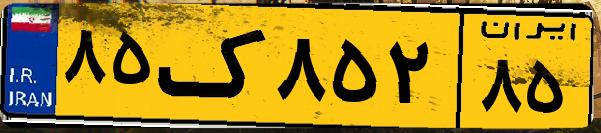2: (385, 28, 445, 110)
5: (330, 28, 385, 110), (525, 38, 570, 115), (110, 28, 158, 98)
8: (270, 28, 330, 110), (57, 26, 110, 100), (475, 38, 525, 113)
ک: (158, 12, 270, 120)
